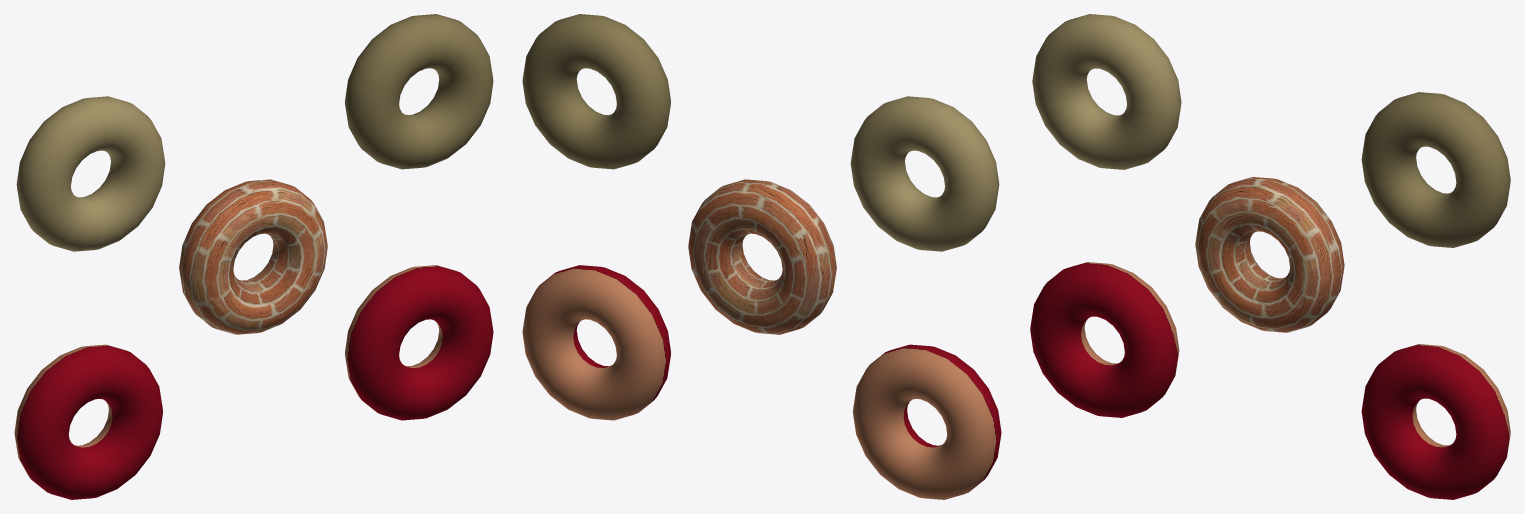
Rendered from Donuts.fbx.
3 renders of one model, left to right at view 1: azimuth 30°, elevation 25°; view 2: azimuth 150°, elevation 25°; view 3: azimuth 330°, elevation 25°, orthographic.
Visible parts, largest first — view 1: pTorus6; view 2: pTorus6; view 3: pTorus6.
Boxes of the visible parts, box(x1,y1,x2,y2) form: pTorus6: box(14, 14, 493, 499); pTorus6: box(522, 14, 1001, 499); pTorus6: box(1030, 14, 1510, 499).
Bounding box in the file's own units: 9.99 × 8.08 × 1.
Materials: 5 (3 with a texture image).
